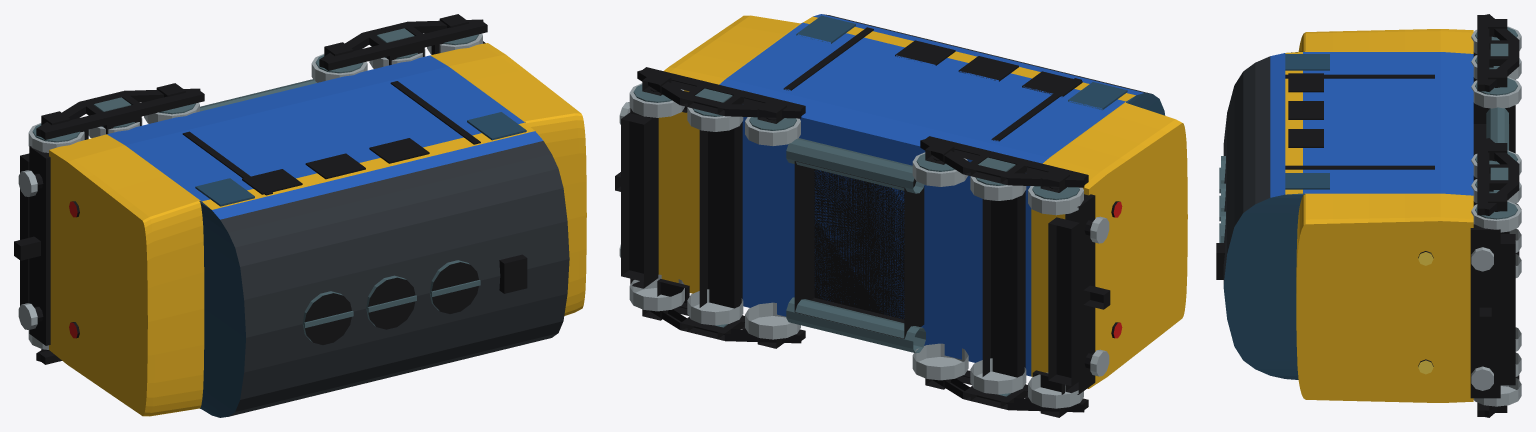
3 renders of one model, left to right at view 1: azimuth 30°, elevation 25°; view 2: azimuth 150°, elevation 25°; view 3: azimuth 270°, elevation 25°, orthographic. The views are drawn at different scales.
Visible parts, largest first — view 1: default_body, default_bogie-1, default_bogie1, default_beam-1, default_fan1, default_fan0, default_fan2, default_buffers-1, default_plough-1, default_side1_2.05_3.85_glass_dark, default_side1_-2.65_3.85_glass_dark, default_exhaust (+6 smaller); view 2: default_body, default_bogie-1, default_bogie1, default_tank, default_plough1, default_plough-1, default_air_tank-1, default_air_tank1, default_beam-1, default_buffers-1, default_beam1, default_mid_wheel-1-1 (+10 smaller); view 3: default_body, default_bogie1, default_beam1, default_bogie-1, default_plough1, default_buffers1, default_air_tank1, default_side1_2.05_3.85_glass_dark, default_side1_-2.65_3.85_glass_dark, default_side1_1.74_2.10_black, default_side1_-1.90_3.95_black, default_side1_0.30_3.95_black (+7 smaller).
Part boxes in pixels (box(x1,y1,x2,y2)): default_body: box(49, 43, 586, 417); default_bogie-1: box(28, 83, 204, 364); default_bogie1: box(311, 14, 487, 82); default_beam-1: box(29, 146, 50, 345); default_fan1: box(366, 275, 415, 329); default_fan0: box(302, 291, 351, 344); default_fan2: box(430, 260, 478, 313); default_buffers-1: box(14, 170, 43, 329); default_plough-1: box(20, 153, 29, 305); default_side1_2.05_3.85_glass_dark: box(467, 112, 526, 140); default_side1_-2.65_3.85_glass_dark: box(195, 178, 254, 206); default_exhaust: box(499, 254, 527, 293); default_body: box(658, 14, 1187, 388); default_bogie-1: box(912, 136, 1088, 417); default_bogie1: box(629, 67, 805, 348); default_tank: box(794, 161, 924, 338); default_plough1: box(621, 113, 652, 281); default_plough-1: box(1048, 217, 1079, 385); default_air_tank-1: box(786, 297, 925, 353); default_air_tank1: box(786, 138, 924, 193); default_beam-1: box(1065, 194, 1095, 394); default_buffers-1: box(1083, 216, 1110, 376); default_beam1: box(630, 108, 658, 288); default_mid_wheel-1-1: box(970, 358, 1026, 394); default_body: box(1223, 29, 1473, 402); default_bogie1: box(1471, 138, 1521, 417); default_beam1: box(1470, 224, 1500, 398); default_bogie-1: box(1471, 14, 1521, 277); default_plough1: box(1500, 234, 1515, 385); default_buffers1: box(1471, 247, 1493, 390); default_air_tank1: box(1486, 107, 1508, 150); default_side1_2.05_3.85_glass_dark: box(1285, 173, 1329, 189); default_side1_-2.65_3.85_glass_dark: box(1285, 54, 1329, 70); default_side1_1.74_2.10_black: box(1285, 165, 1434, 169); default_side1_-1.90_3.95_black: box(1288, 73, 1323, 92); default_side1_0.30_3.95_black: box(1288, 129, 1323, 147).
Bounding box in the file's own units: 8.46 × 3.9 × 5.1.
